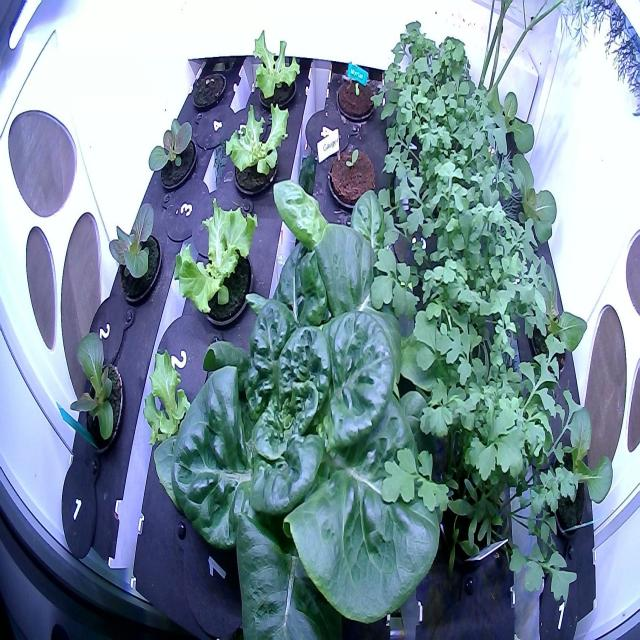Ready: (144, 207, 462, 640)
germination: (323, 138, 382, 215), (331, 65, 379, 124), (189, 65, 229, 114)
young: (66, 324, 132, 462), (100, 190, 169, 310), (140, 109, 202, 206)
